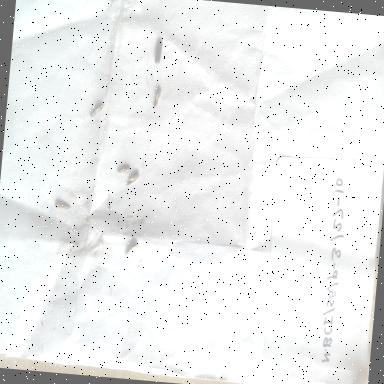pbw: (54, 198, 76, 216), (152, 38, 165, 66), (89, 102, 105, 120), (152, 86, 164, 110), (124, 240, 138, 260), (115, 163, 132, 178), (126, 171, 140, 188)
